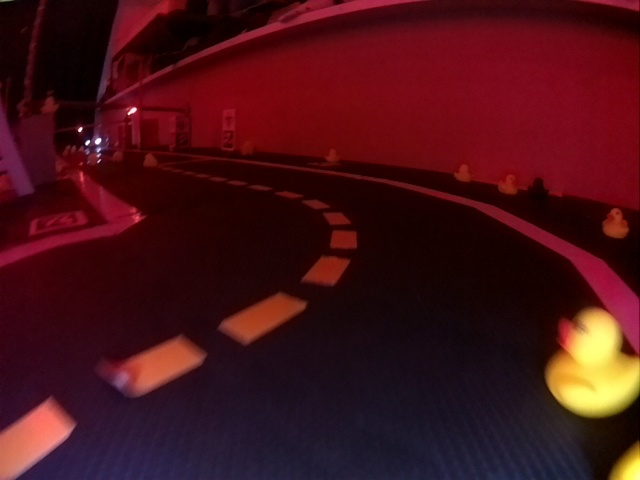Duckie: (547, 309, 637, 416), (602, 211, 629, 239), (497, 175, 518, 194), (454, 164, 469, 182)
QR code: (29, 211, 87, 234), (221, 130, 233, 149), (178, 133, 188, 144)
